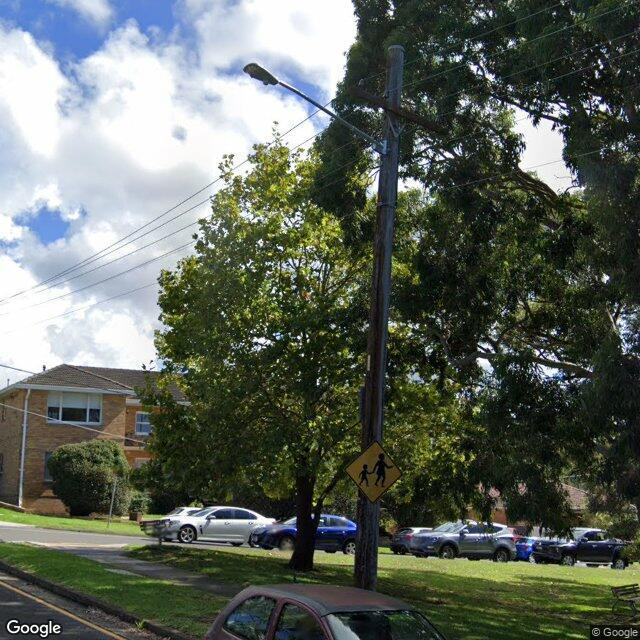crossarm: (349, 83, 447, 138)
streetlight: (243, 60, 386, 154)
timber-pole: (352, 43, 408, 586)
